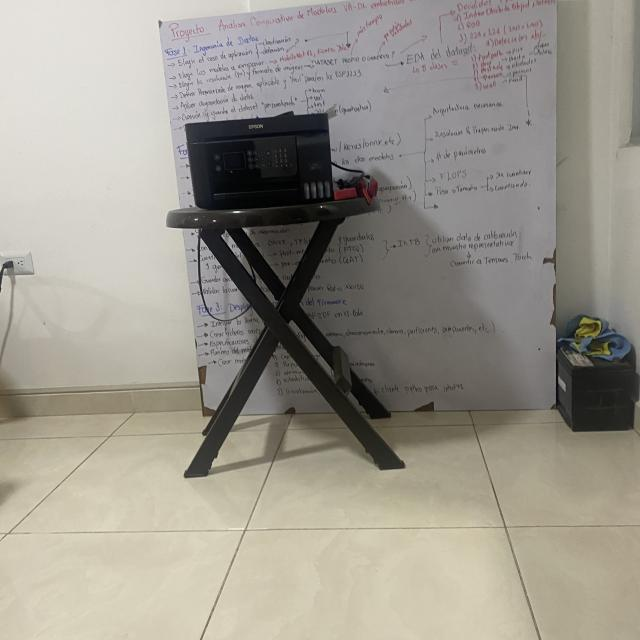obstacle: (168, 103, 405, 492)
